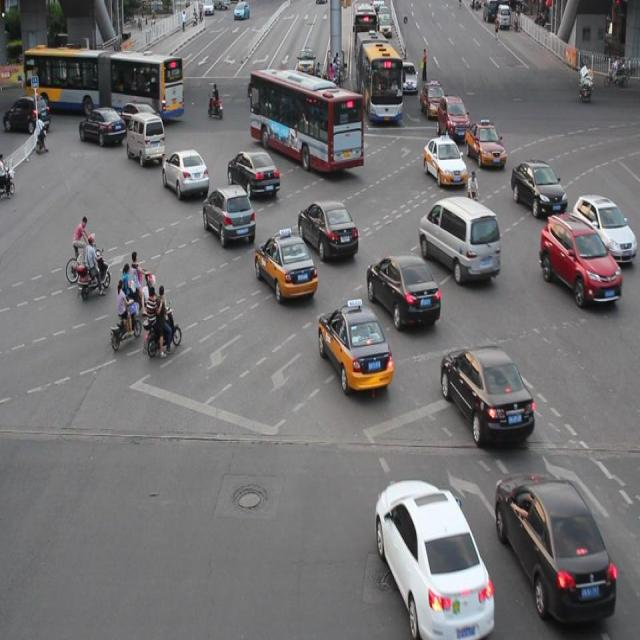car: (374, 479, 495, 640), (494, 472, 614, 623), (438, 342, 534, 444), (538, 211, 620, 307), (317, 304, 392, 389), (365, 252, 440, 329), (570, 192, 640, 263), (254, 231, 317, 299), (297, 199, 357, 262), (509, 158, 566, 219), (202, 184, 256, 248), (226, 148, 280, 198), (162, 147, 209, 198), (423, 135, 465, 186), (463, 121, 505, 168), (79, 105, 126, 146), (117, 100, 160, 136), (436, 94, 469, 140)
truck: (418, 196, 500, 283), (126, 112, 166, 165)
van: (250, 70, 364, 172)
